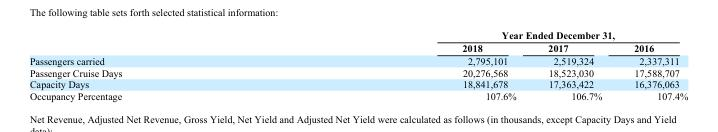table: (28, 29, 687, 101)
table column: (28, 29, 291, 101), (291, 29, 531, 101), (531, 29, 617, 101), (617, 29, 687, 101)
table column header: (28, 29, 687, 54)
table row: (28, 41, 687, 54), (28, 29, 687, 41), (28, 54, 687, 66), (28, 66, 687, 78), (28, 89, 687, 101), (28, 78, 687, 89)
table spanning cell: (291, 29, 687, 41)
